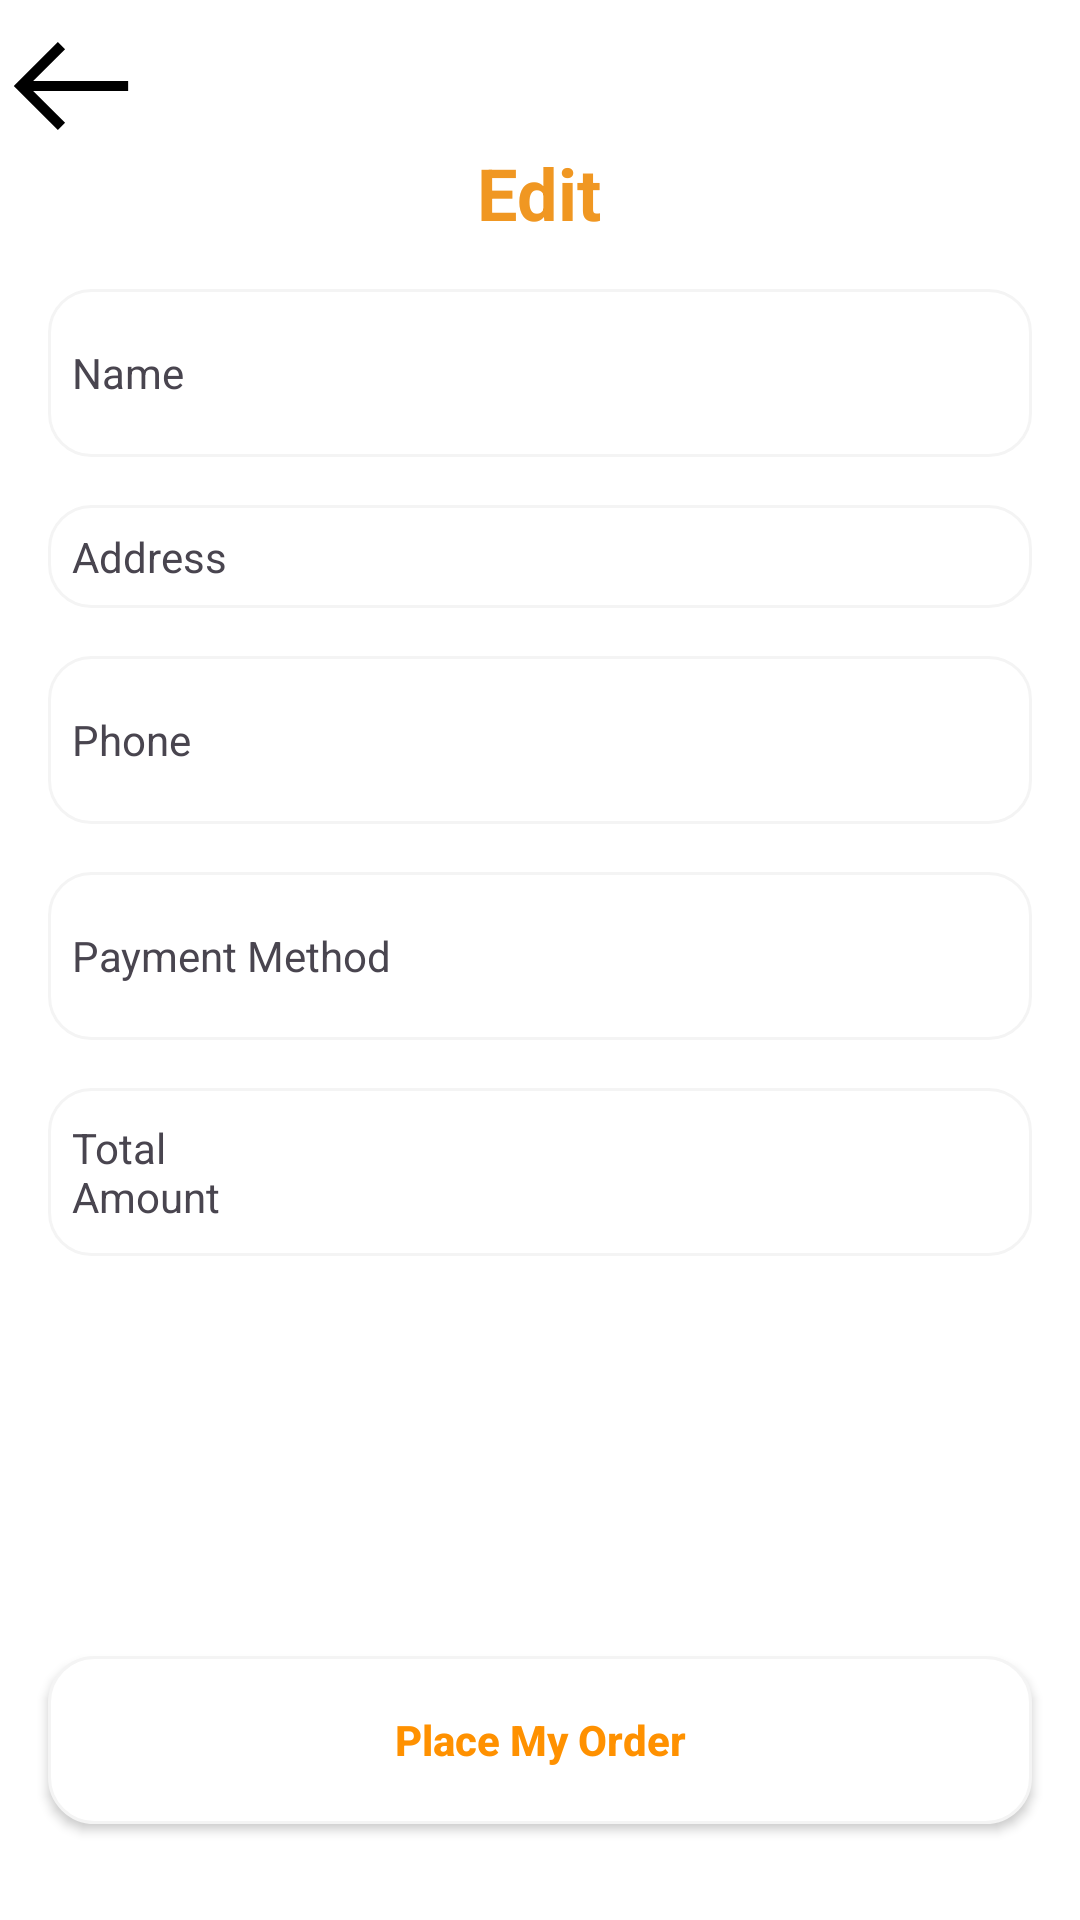

Icons on this 1080w x 1920h Android screen, each with the point to tap as (x,y):
left arrow: (71,86)
